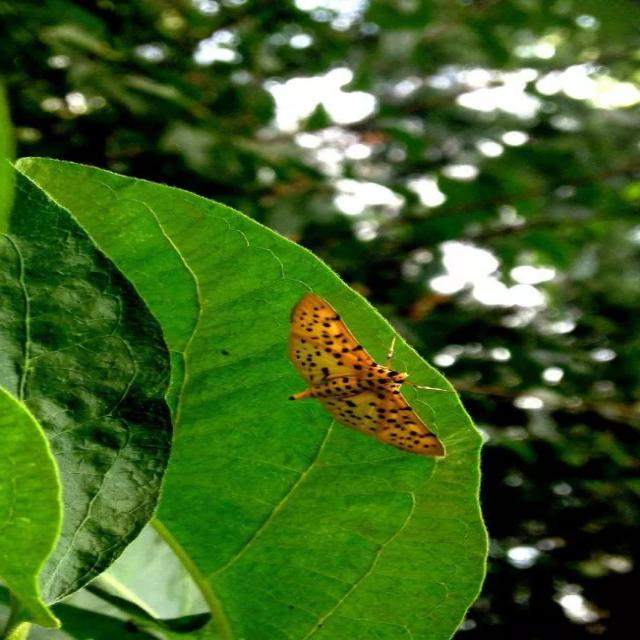peach borer: (276, 290, 446, 462)
